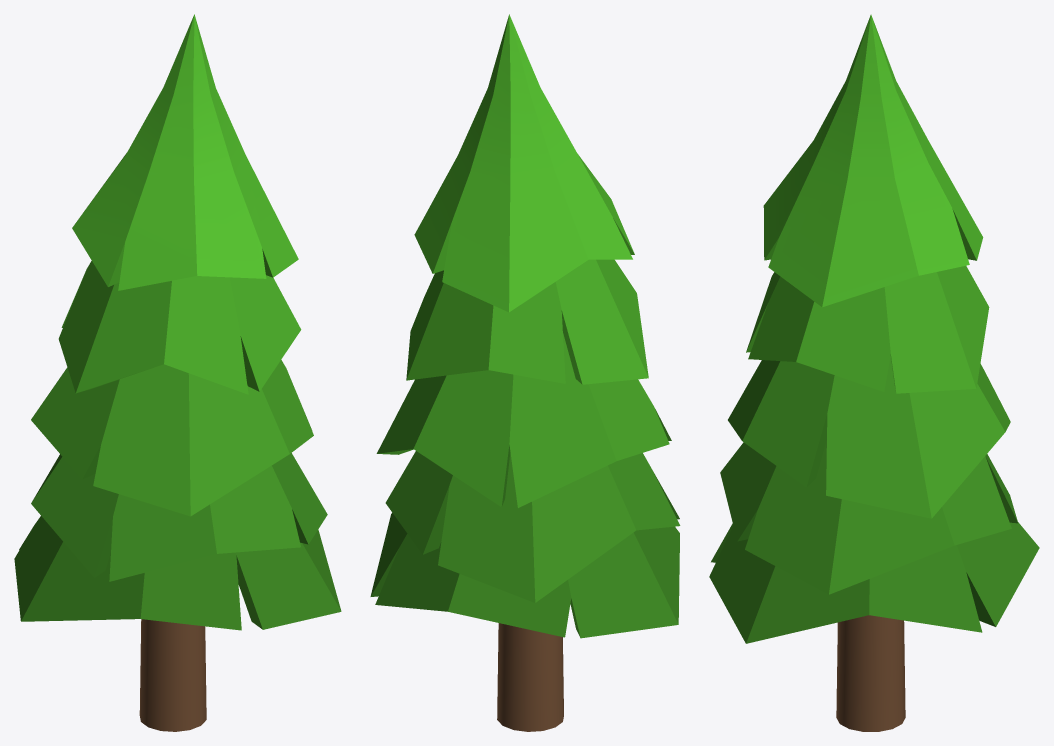
Rendered from Spruce_Green_Thin_1.fbx.
3 renders of one model, left to right at view 1: azimuth 30°, elevation 25°; view 2: azimuth 150°, elevation 25°; view 3: azimuth 270°, elevation 25°, orthographic. The views are drawn at different scales.
Visible parts, largest first — view 1: Cylinder.026, Cylinder.025, Cylinder.024, Cylinder.021, Cylinder.022, Cylinder.020; view 2: Cylinder.026, Cylinder.025, Cylinder.022, Cylinder.024, Cylinder.021, Cylinder.020; view 3: Cylinder.026, Cylinder.025, Cylinder.022, Cylinder.024, Cylinder.021, Cylinder.020.
Part boxes in pixels (bbox=[...]): Cylinder.026: bbox=[72, 14, 298, 290]; Cylinder.025: bbox=[31, 360, 313, 516]; Cylinder.024: bbox=[58, 261, 301, 394]; Cylinder.021: bbox=[14, 516, 341, 630]; Cylinder.022: bbox=[31, 453, 327, 581]; Cylinder.020: bbox=[139, 619, 206, 731]; Cylinder.026: bbox=[414, 14, 634, 312]; Cylinder.025: bbox=[376, 333, 671, 507]; Cylinder.022: bbox=[385, 451, 680, 602]; Cylinder.024: bbox=[406, 259, 648, 384]; Cylinder.021: bbox=[370, 512, 679, 638]; Cylinder.020: bbox=[497, 623, 563, 731]; Cylinder.026: bbox=[763, 14, 983, 307]; Cylinder.025: bbox=[728, 356, 1010, 518]; Cylinder.022: bbox=[720, 439, 1017, 594]; Cylinder.024: bbox=[746, 266, 989, 393]; Cylinder.021: bbox=[709, 522, 1039, 643]; Cylinder.020: bbox=[836, 615, 905, 731].
Size of the model in its own units: 247 by 567 by 238.
